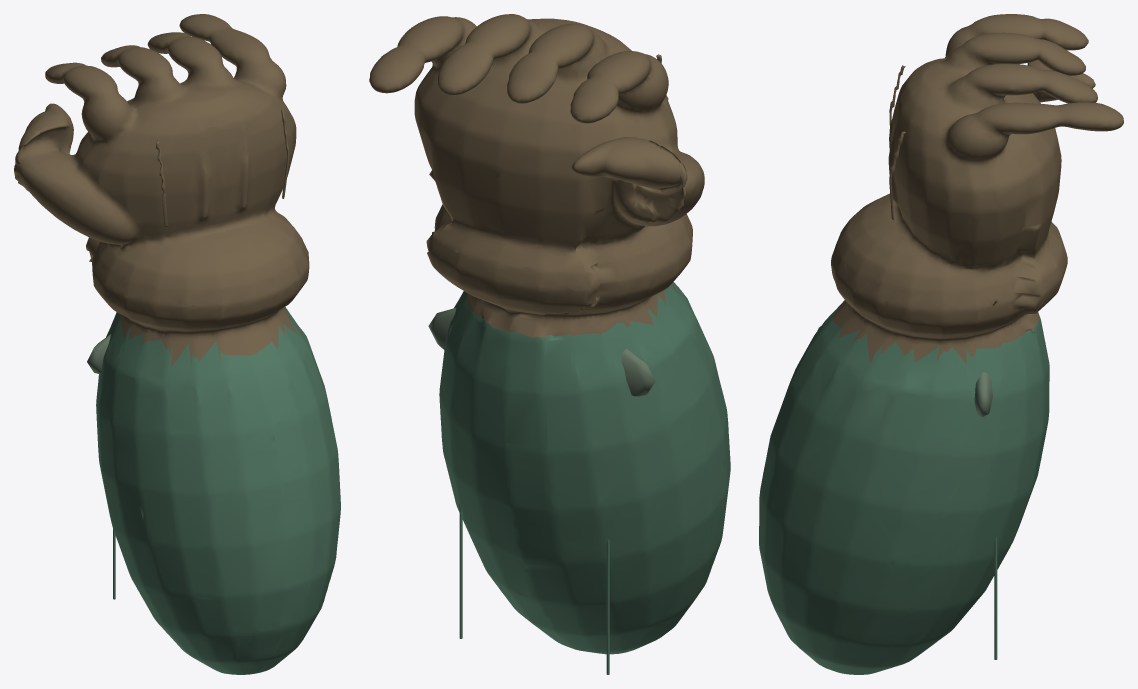
The model's file is ranger_grip_cup.glb.
The picture shows the model from 3 angles, left to right: view 1: azimuth 30°, elevation 25°; view 2: azimuth 150°, elevation 25°; view 3: azimuth 270°, elevation 25°; orthographic projection. The views are drawn at different scales.
Parts seen in each view (by area): view 1: Continuous right glove and forearm.003; view 2: Continuous right glove and forearm.003, Cuff fastener.004; view 3: Continuous right glove and forearm.003, Cuff fastener.004.
Boxes of the visible parts, x1,y1,x2,y2 form: Continuous right glove and forearm.003: (14, 14, 340, 674); Continuous right glove and forearm.003: (369, 14, 730, 654); Cuff fastener.004: (428, 308, 655, 396); Continuous right glove and forearm.003: (759, 14, 1123, 674); Cuff fastener.004: (974, 372, 992, 417).
Bounding box in the file's own units: 0.1403 × 0.3085 × 0.1653.
